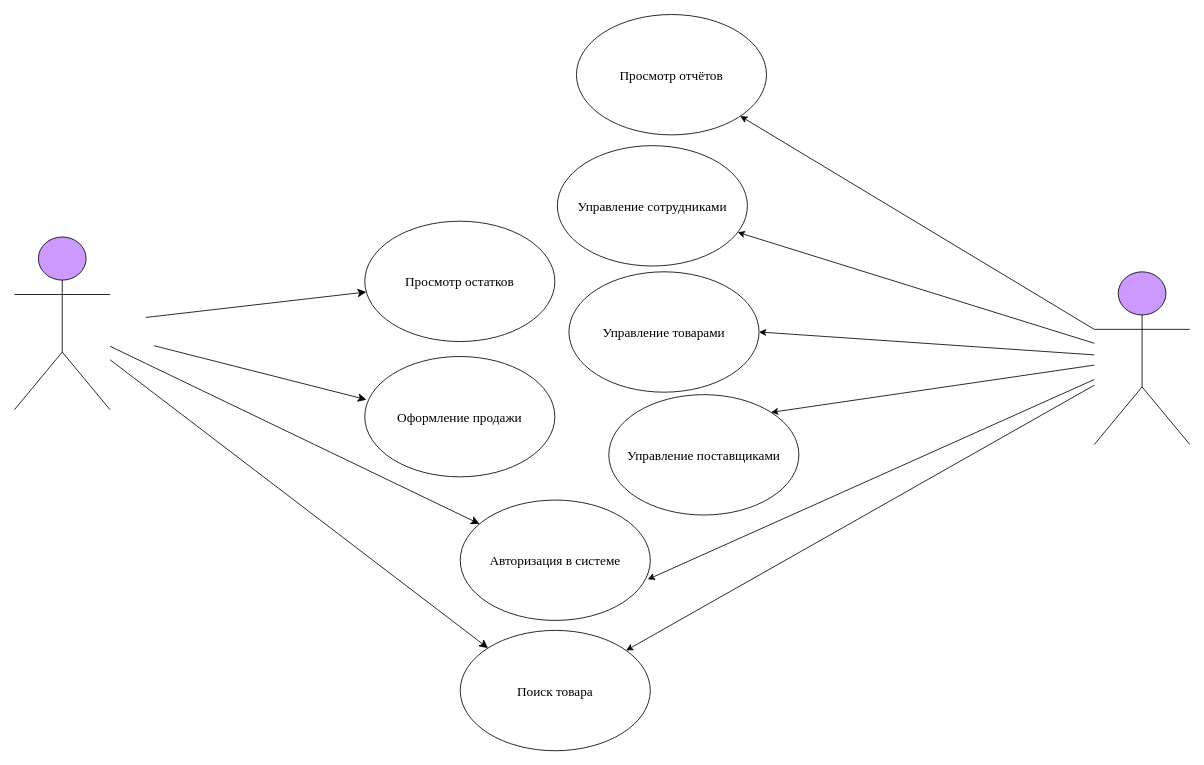
This 1204x765 diagram has some shape labels left out. The shapes that lost their labels are listed below. From the top down, each one's centre as x and y in pixels, then its label:
At pixel 62 323: "Фармацевт".
At pixel 1142 357: "Администратор".
